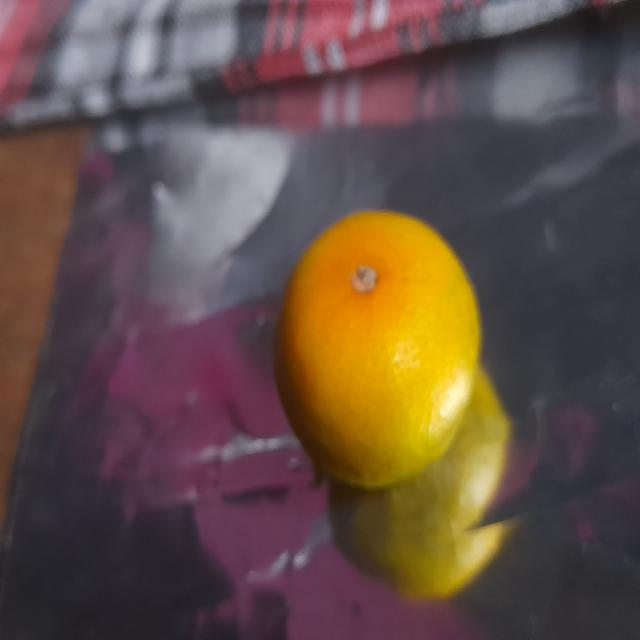greening: (280, 213, 483, 492)
